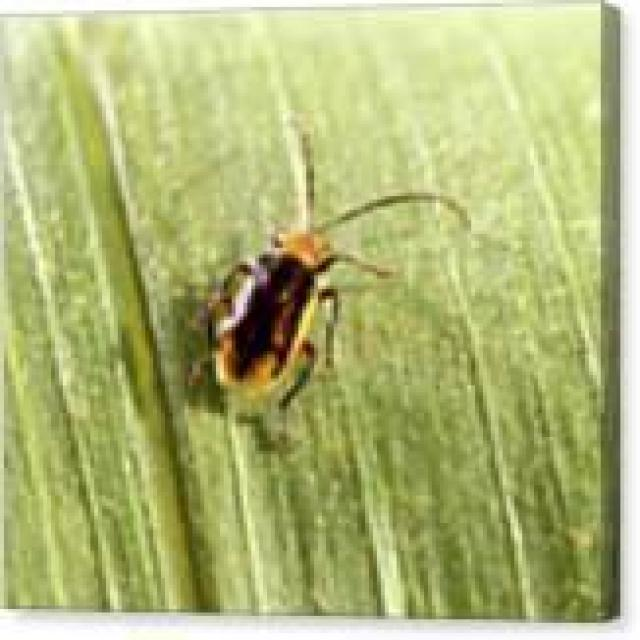trips: (190, 118, 475, 410)
